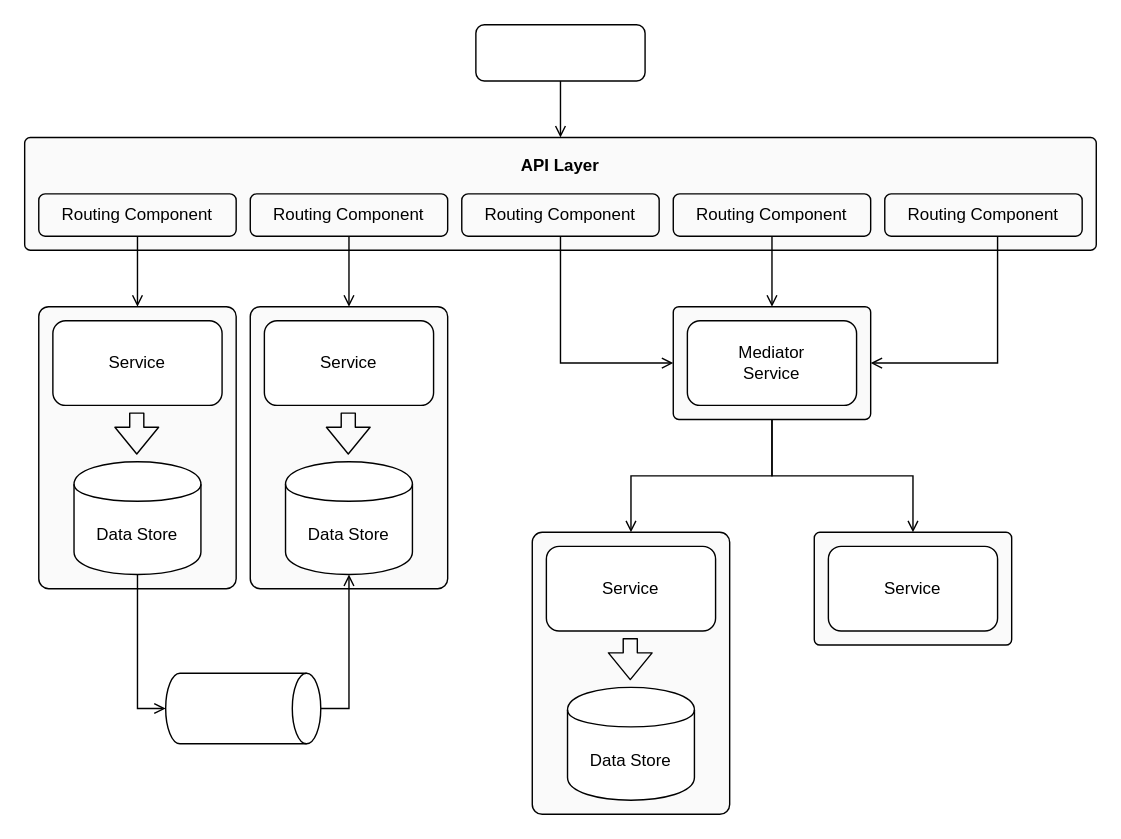
The diagram is 1121 pixels wide and 839 high, and some of its shapes have lost their labels. The centre of each missing label's shape, as x and y in pixels:
Client Request: the point at 559,52
Cross-Service Data Messaging: the point at 242,708
